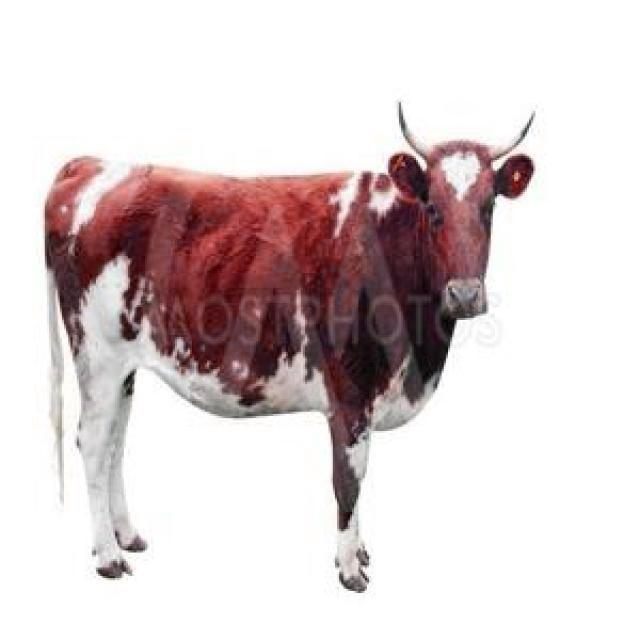cow: (45, 115, 532, 591)
